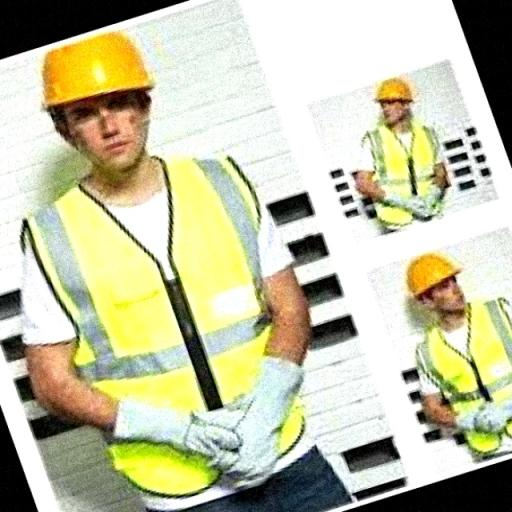Person: (9, 20, 347, 512), (367, 239, 512, 487), (342, 58, 462, 243)
gloves: (200, 344, 310, 488), (100, 388, 238, 473), (452, 402, 508, 446), (377, 186, 427, 220), (416, 184, 444, 215)
helmet: (35, 26, 168, 106), (392, 244, 468, 301), (367, 76, 417, 110)
vest: (13, 165, 318, 497), (413, 309, 512, 465), (368, 122, 442, 232)
